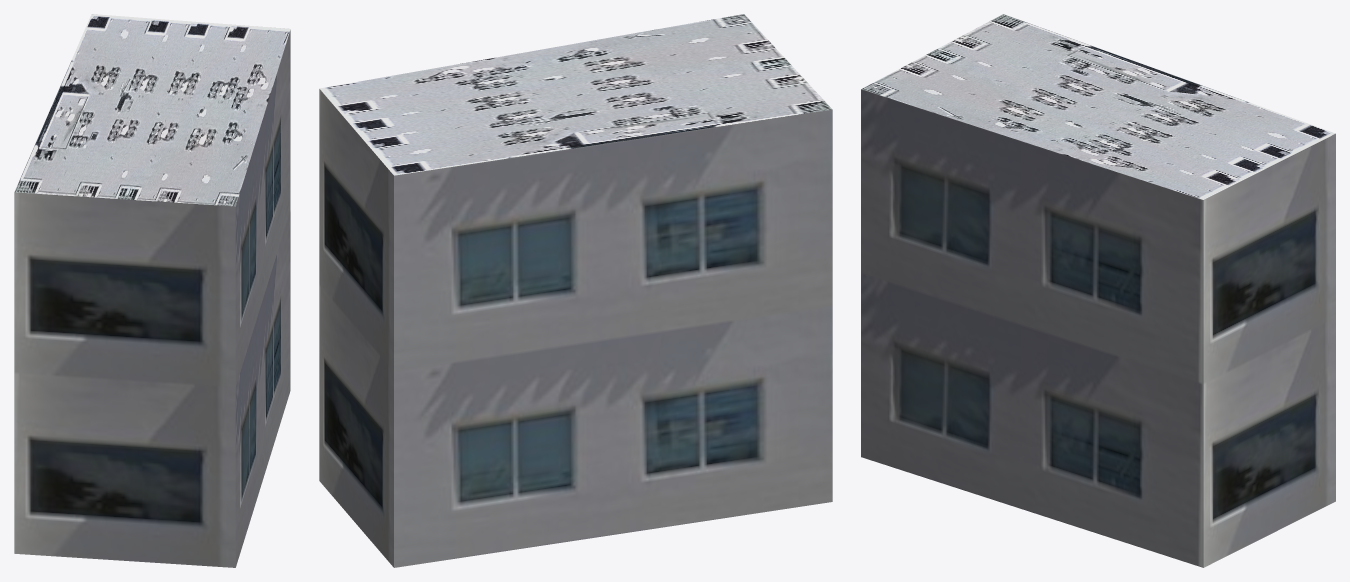
The model's file is ResTex__2863.fbx.
The picture shows the model from 3 angles, left to right: view 1: azimuth 30°, elevation 25°; view 2: azimuth 150°, elevation 25°; view 3: azimuth 270°, elevation 25°; orthographic projection. The views are drawn at different scales.
Parts seen in each view (by area): view 1: CityEngineMaterial_10_m, CityEngineMaterial_8_m; view 2: CityEngineMaterial_10_m, CityEngineMaterial_8_m; view 3: CityEngineMaterial_10_m, CityEngineMaterial_8_m.
Boxes of the visible parts, x1=… form: CityEngineMaterial_10_m: x1=14, y1=30, x2=290, y2=567; CityEngineMaterial_8_m: x1=14, y1=14, x2=290, y2=206; CityEngineMaterial_10_m: x1=319, y1=89, x2=832, y2=567; CityEngineMaterial_8_m: x1=319, y1=14, x2=832, y2=175; CityEngineMaterial_10_m: x1=861, y1=89, x2=1335, y2=567; CityEngineMaterial_8_m: x1=861, y1=14, x2=1335, y2=199.
Bounding box in the file's own units: 6.51 × 6 × 7.02.
Materials: 2 (2 with a texture image).
